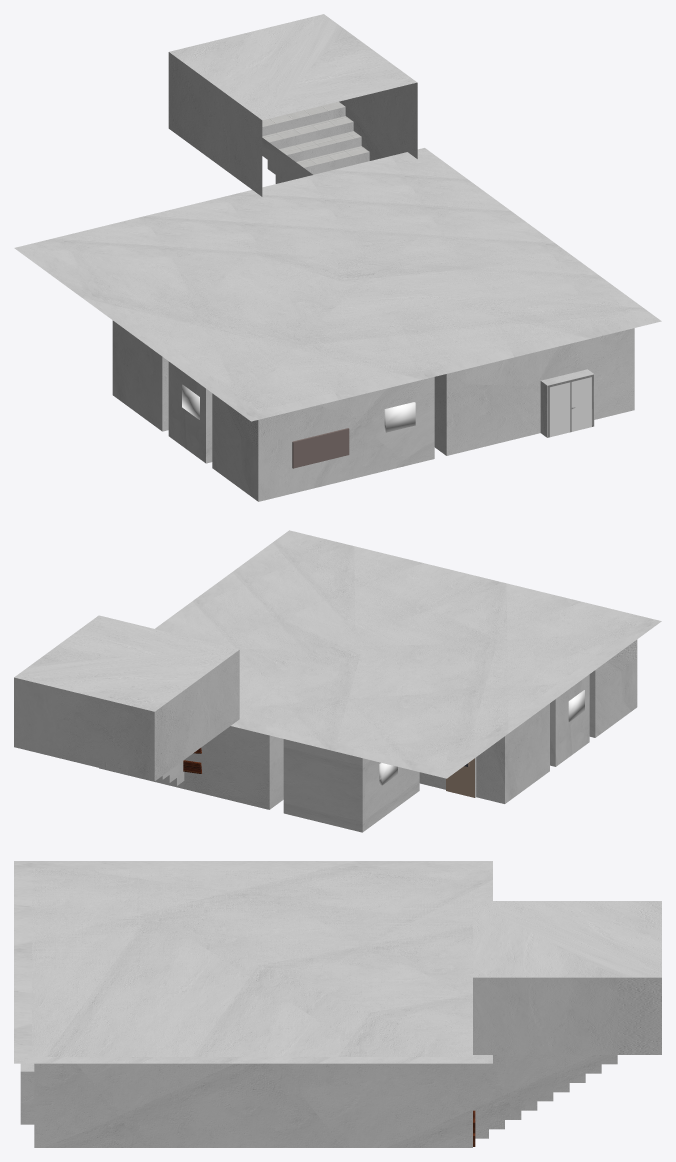
File: inf.glb
3 views of the same model, one above another, from view 1: azimuth 30°, elevation 25°; view 2: azimuth 150°, elevation 25°; view 3: azimuth 270°, elevation 25° (orthographic). The views are drawn at different scales.
Parts seen in each view (by area): view 1: Cube.009, Plane, Plane.007, Cube.008, Plane.004; view 2: Cube.009, Plane, Plane.007; view 3: Plane, Plane.007, Cube.009.
Part boxes in pixels (x1,y1,x2,y2): Cube.009: (14,148,661,421); Plane: (112,14,634,501); Plane.007: (92,163,638,411); Cube.008: (292,428,349,468); Plane.004: (384,402,415,432); Cube.009: (155,530,661,778); Plane: (14,615,637,832); Plane.007: (168,540,639,768); Plane: (20,901,661,1147); Plane.007: (32,868,473,1056); Cube.009: (14,861,492,1063).
Bounding box in the file's own units: 32.82 × 12.9 × 44.3.
Materials: 30 (7 with a texture image).
